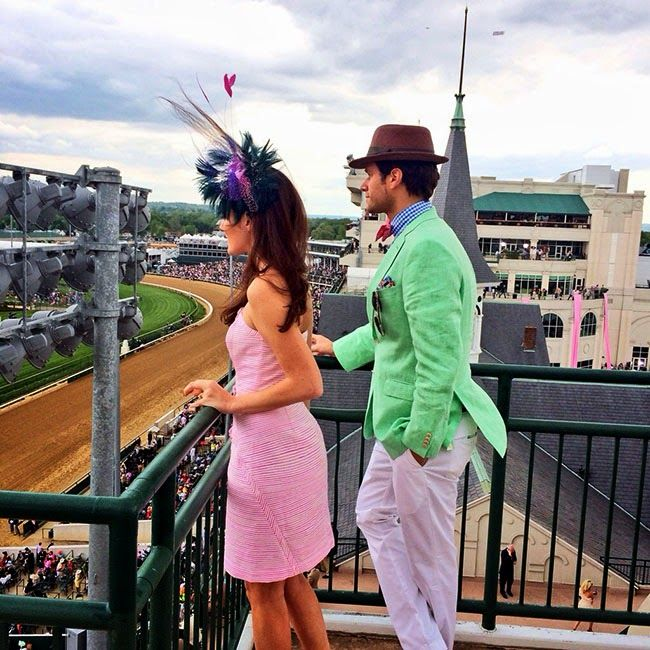Person: (334, 125, 506, 650), (183, 76, 336, 650)
